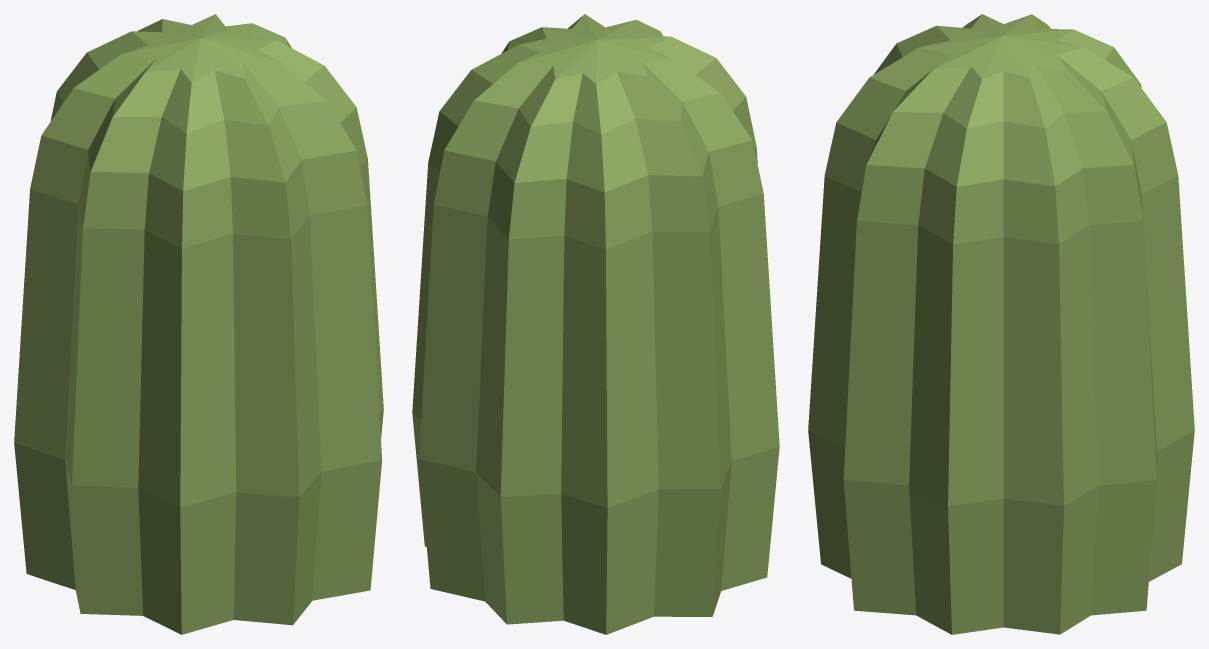
File: FBX Cactus 2.fbx
3 views of the same model, side by side, from view 1: azimuth 30°, elevation 25°; view 2: azimuth 150°, elevation 25°; view 3: azimuth 270°, elevation 25° (orthographic).
Parts seen in each view (by area): view 1: Sphere.003; view 2: Sphere.003; view 3: Sphere.003.
Part boxes in pixels (left/top/right/bottom): Sphere.003: left=14, top=14, right=383, bottom=634; Sphere.003: left=412, top=14, right=779, bottom=634; Sphere.003: left=808, top=14, right=1194, bottom=634.
Bounding box in the file's own units: 102 × 163 × 108.
